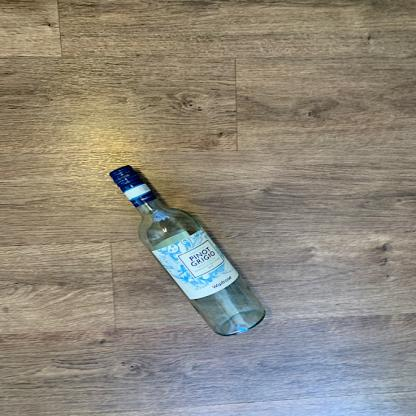trash: (108, 164, 273, 340)
